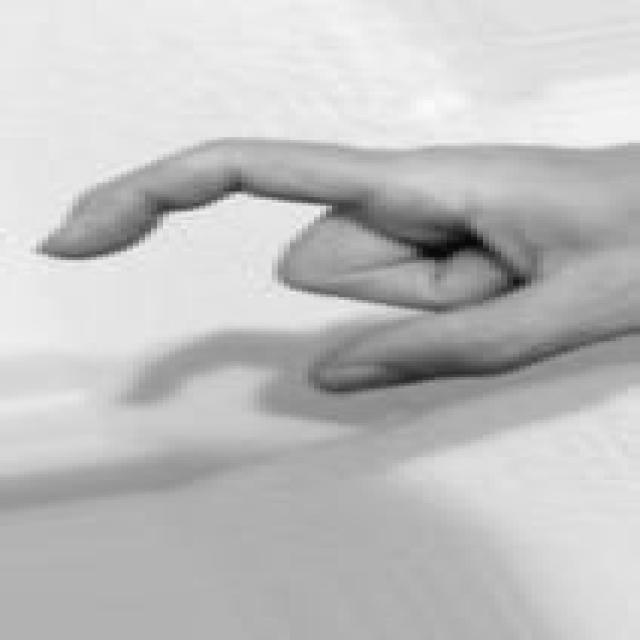C: (30, 138, 640, 398)
